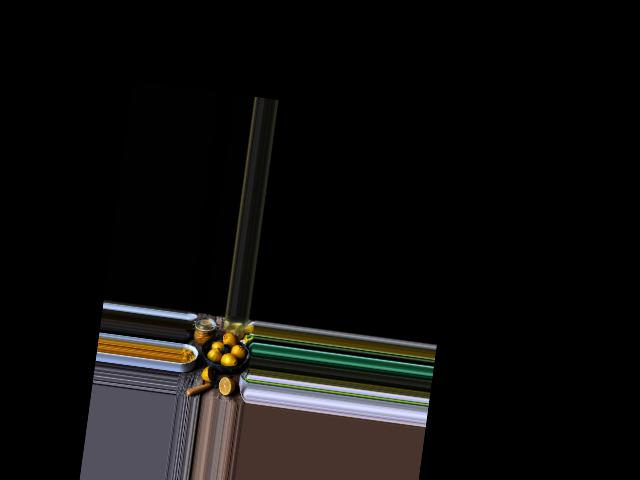lemon: (206, 347, 222, 364)
